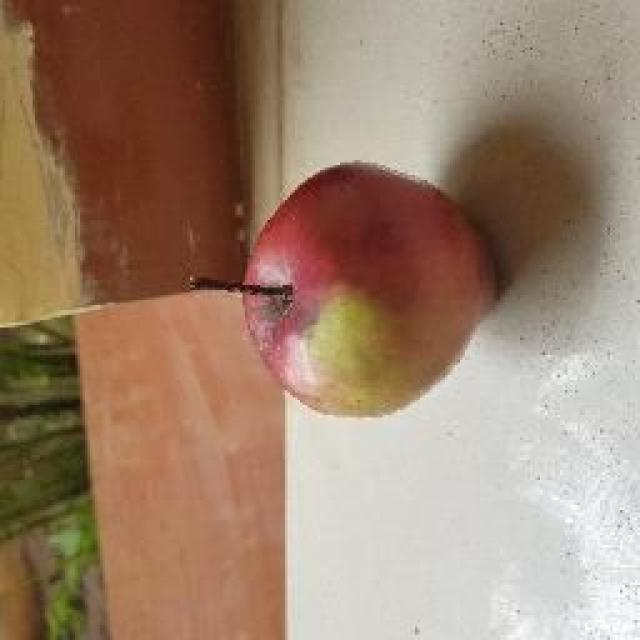Good_Apple: (228, 160, 505, 422)
